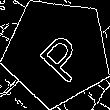P_NW: (26, 20, 88, 83)
